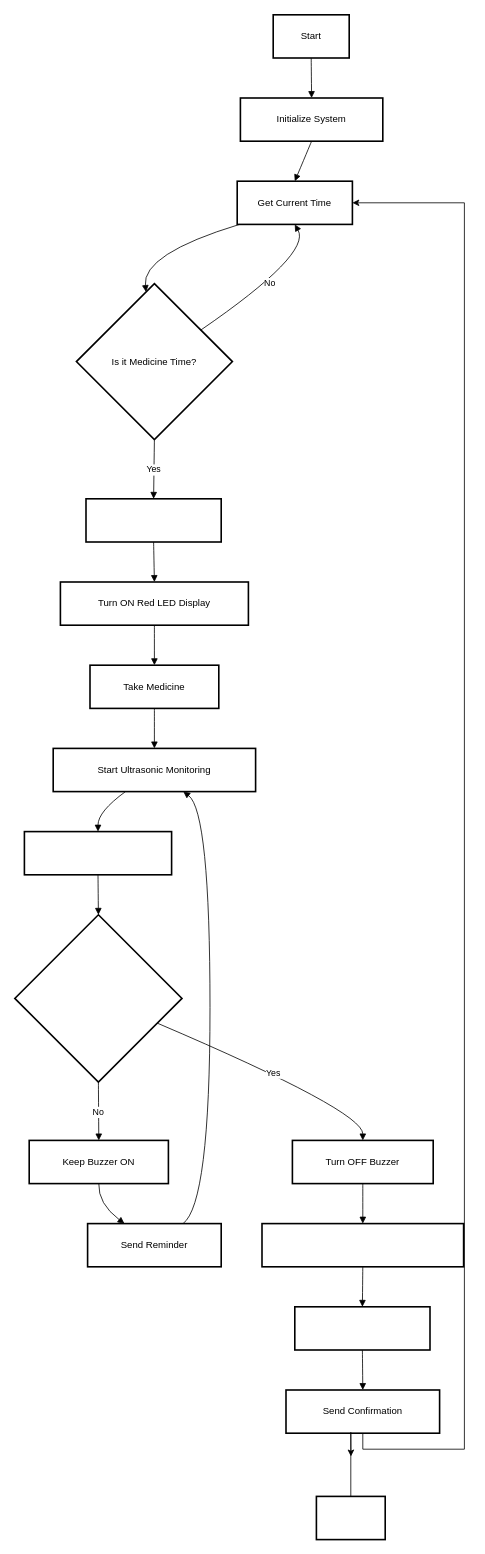
The diagram is 485 pixels wide and 1554 high, and some of its shapes have lost their labels. Each missing label, with the box of its shape:
End: (315, 1495, 386, 1540)
Is Medicine Removed?: (14, 914, 182, 1082)
Measure Distance: (23, 830, 172, 875)
Medicine Taken: (294, 1306, 430, 1350)
Turn ON Buzzer: (85, 498, 222, 542)
Turn ON Green LED Display: (261, 1222, 464, 1267)
